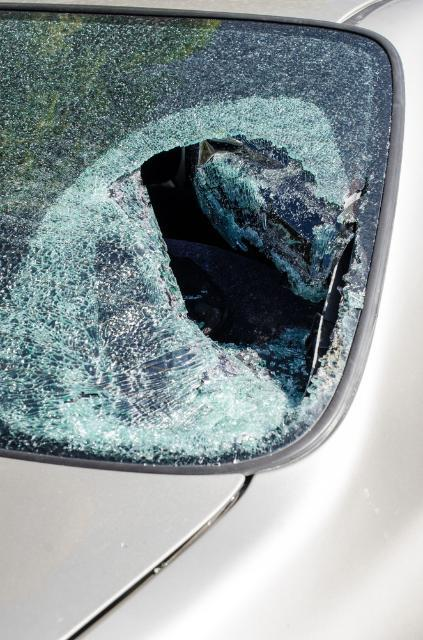glass shatter: (0, 7, 393, 466)
